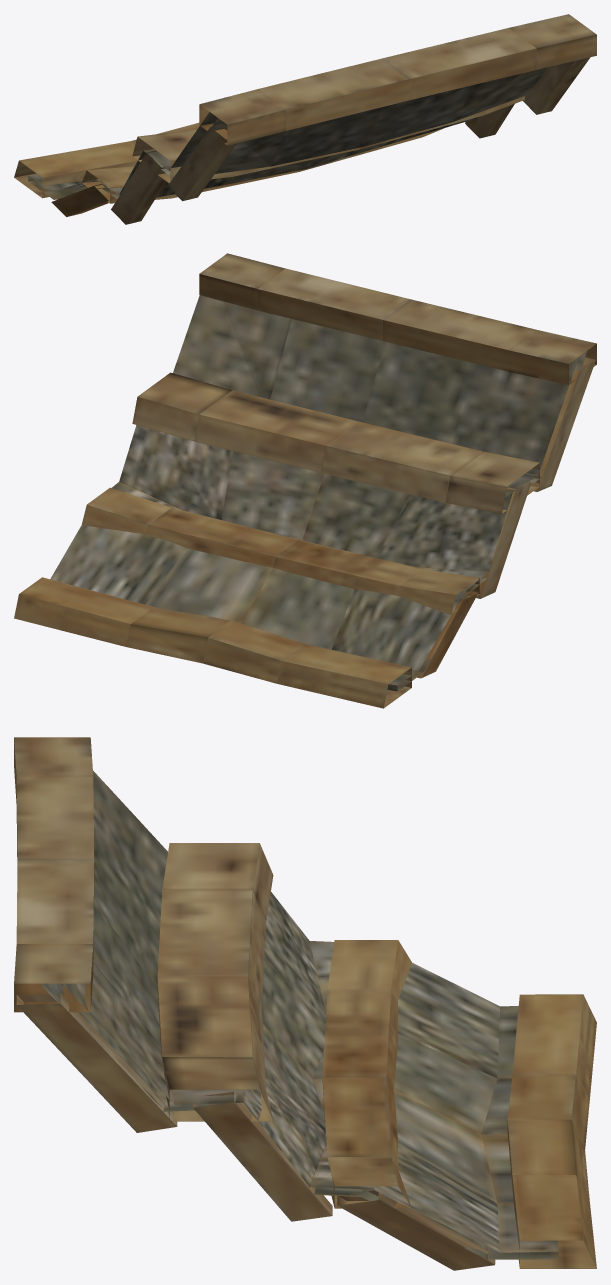
The model's file is roofEdge.obj.
The picture shows the model from 3 angles, top to bottom: view 1: azimuth 30°, elevation 25°; view 2: azimuth 150°, elevation 25°; view 3: azimuth 270°, elevation 25°; orthographic projection. The views are drawn at different scales.
Parts seen in each view (by area): view 1: roofEdge; view 2: roofEdge; view 3: roofEdge.
Boxes of the visible parts, x1,y1,x2,y2 form: roofEdge: (14, 14, 596, 224); roofEdge: (14, 253, 596, 708); roofEdge: (14, 737, 596, 1270).
Bounding box in the file's own units: 1 × 0.55 × 1.
Materials: 1 (1 with a texture image).
